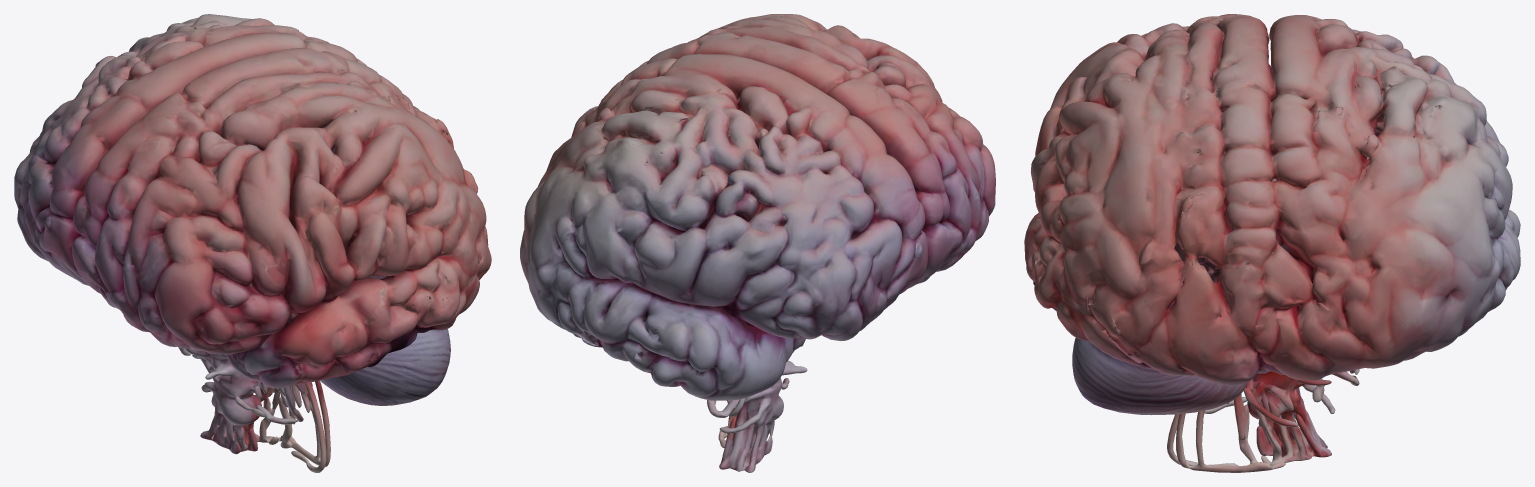
Rendered from brain.glb.
3 renders of one model, left to right at view 1: azimuth 30°, elevation 25°; view 2: azimuth 150°, elevation 25°; view 3: azimuth 270°, elevation 25°, orthographic. The views are drawn at different scales.
Parts seen in each view (by area): view 1: tripo_node_d48cddf9-6e05-49c7-aa26-43c4ea5d772e; view 2: tripo_node_d48cddf9-6e05-49c7-aa26-43c4ea5d772e; view 3: tripo_node_d48cddf9-6e05-49c7-aa26-43c4ea5d772e.
Part boxes in pixels (x1,y1,x2,y2): tripo_node_d48cddf9-6e05-49c7-aa26-43c4ea5d772e: (14,14,491,472); tripo_node_d48cddf9-6e05-49c7-aa26-43c4ea5d772e: (520,14,995,472); tripo_node_d48cddf9-6e05-49c7-aa26-43c4ea5d772e: (1024,14,1520,472).
Bounding box in the file's own units: 0.8944 × 0.9231 × 0.9999.
1 material, 1 textured.
